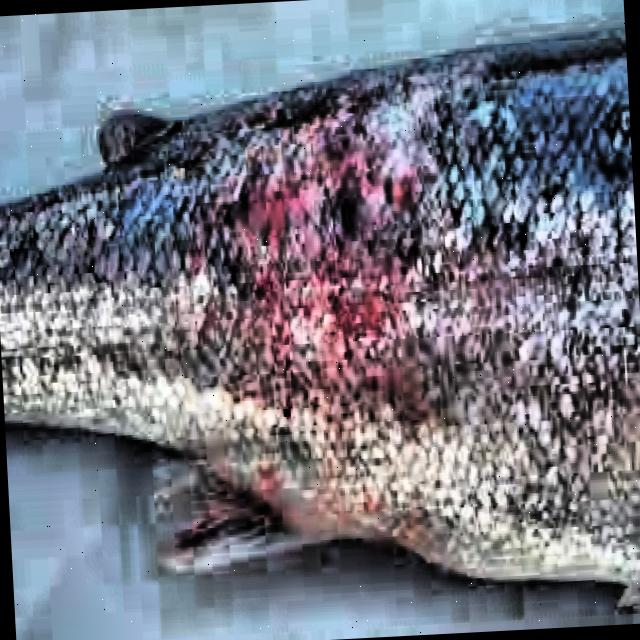mild_red: (0, 27, 640, 606)
